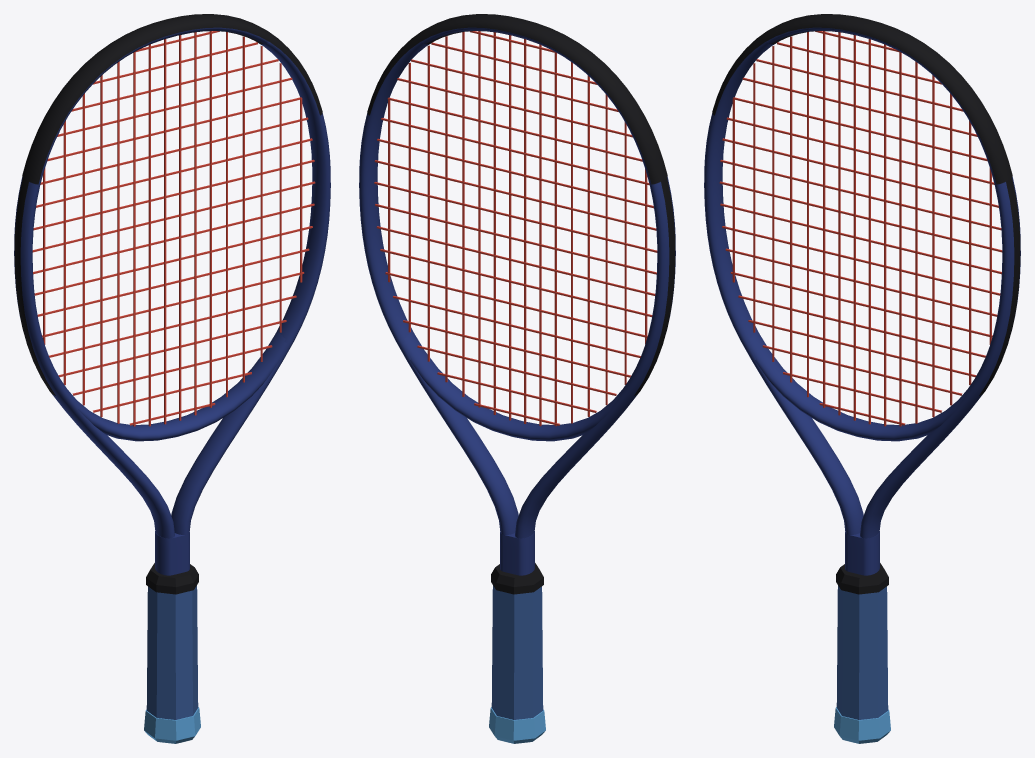
Rendered from head-paw-patrol-junior-23.glb.
The picture shows the model from 3 angles, left to right: view 1: azimuth 30°, elevation 25°; view 2: azimuth 150°, elevation 25°; view 3: azimuth 330°, elevation 25°; orthographic projection.
Parts seen in each view (by area): view 1: frame, strings_mains, strings_crosses, grip, bumper, butt_cap, grommets, collar; view 2: frame, strings_mains, strings_crosses, grip, bumper, butt_cap, grommets, collar; view 3: frame, strings_mains, strings_crosses, grip, bumper, butt_cap, grommets, collar.
Boxes of the visible parts, <box> form: frame: <box>14,27,330,575</box>; strings_mains: <box>43,31,302,426</box>; strings_crosses: <box>32,31,315,425</box>; grip: <box>146,585,198,719</box>; bumper: <box>22,14,322,184</box>; butt_cap: <box>144,707,200,743</box>; grommets: <box>14,178,55,395</box>; collar: <box>146,563,198,594</box>; frame: <box>359,27,675,575</box>; strings_mains: <box>388,31,647,426</box>; strings_crosses: <box>374,31,657,425</box>; grip: <box>491,585,543,719</box>; bumper: <box>367,14,667,184</box>; butt_cap: <box>489,707,545,743</box>; grommets: <box>634,178,675,395</box>; collar: <box>491,563,543,594</box>; frame: <box>704,27,1020,575</box>; strings_mains: <box>732,31,991,426</box>; strings_crosses: <box>719,31,1002,425</box>; grip: <box>836,585,888,719</box>; bumper: <box>712,14,1012,184</box>; butt_cap: <box>834,707,890,743</box>; grommets: <box>979,178,1020,395</box>; collar: <box>836,563,888,594</box>.
Size of the model in its own units: 0.2671 by 0.5845 by 0.0396.
